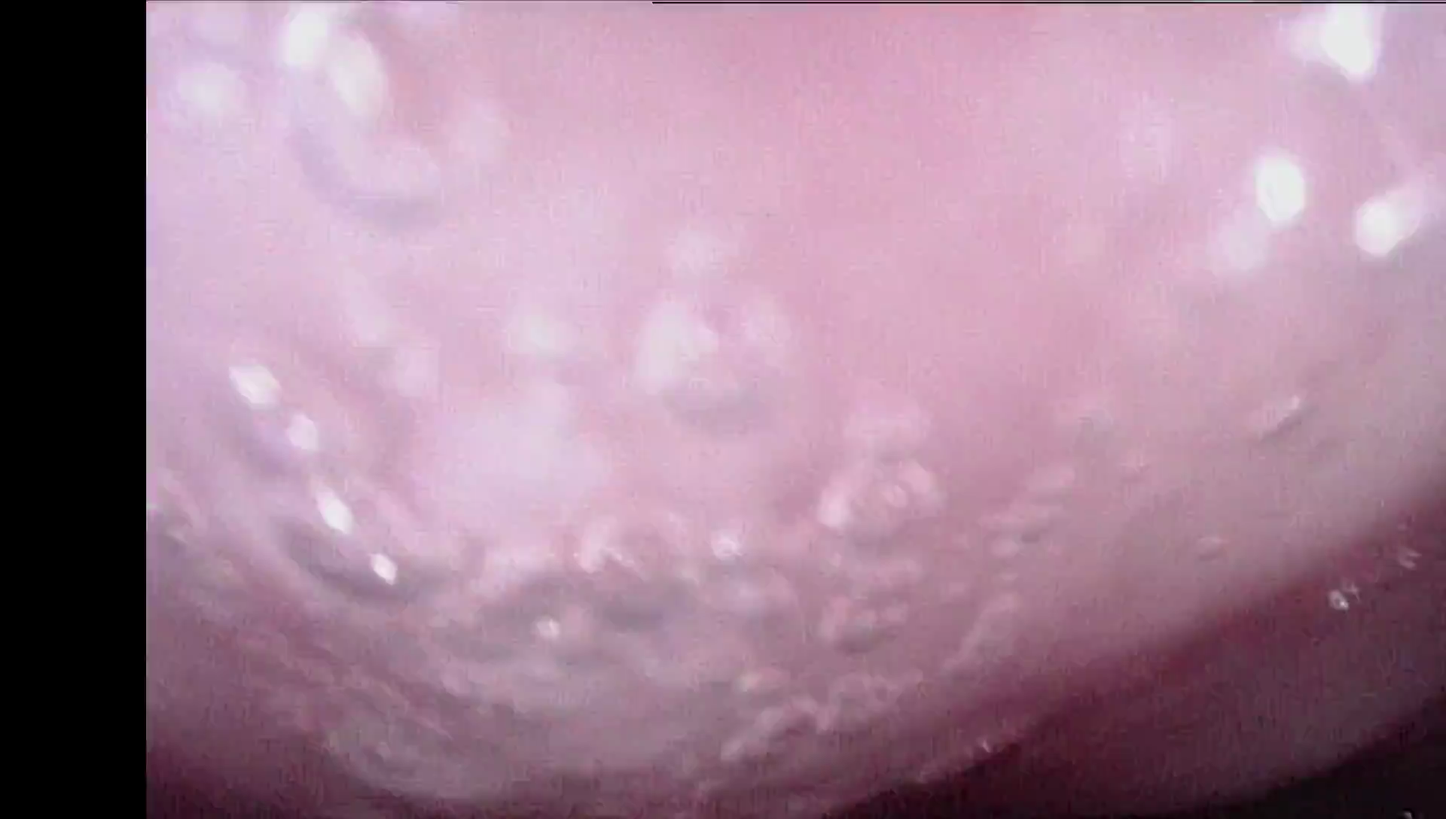close_wall: (155, 0, 1446, 513)
next: (828, 715, 1144, 819), (1251, 698, 1446, 819)
